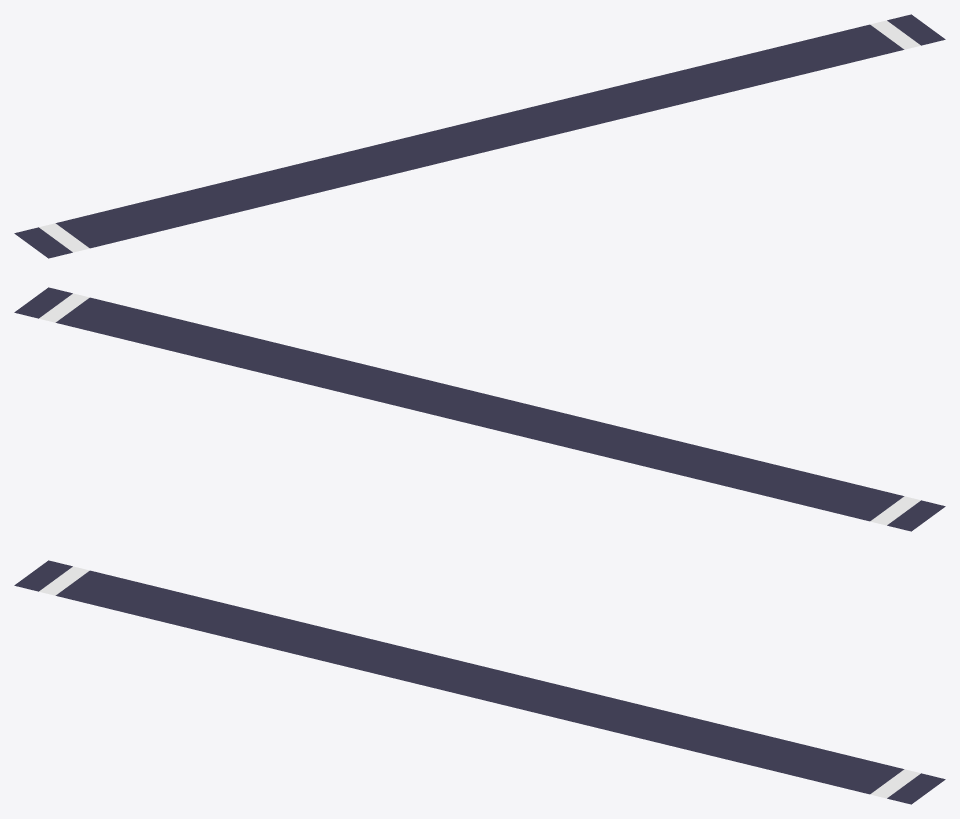
The model's file is block_2.fbx.
3 views of the same model, one above another, from view 1: azimuth 30°, elevation 25°; view 2: azimuth 150°, elevation 25°; view 3: azimuth 330°, elevation 25° (orthographic).
Parts seen in each view (by area): view 1: Block_1.007; view 2: Block_1.007; view 3: Block_1.007.
Boxes of the visible parts, x1,y1,x2,y2 form: Block_1.007: (14,14,945,258); Block_1.007: (14,287,945,531); Block_1.007: (14,560,945,804).
Size of the model in its own units: 19.78 by 0 by 1.32.
Materials: 1 (1 with a texture image).
